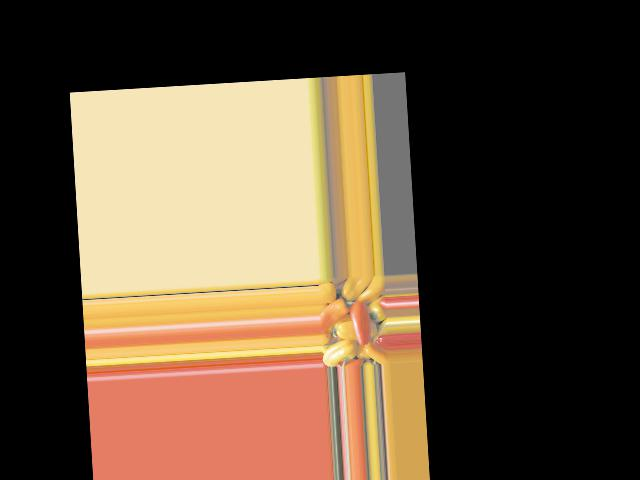bell_pepper: (322, 337, 355, 367)
